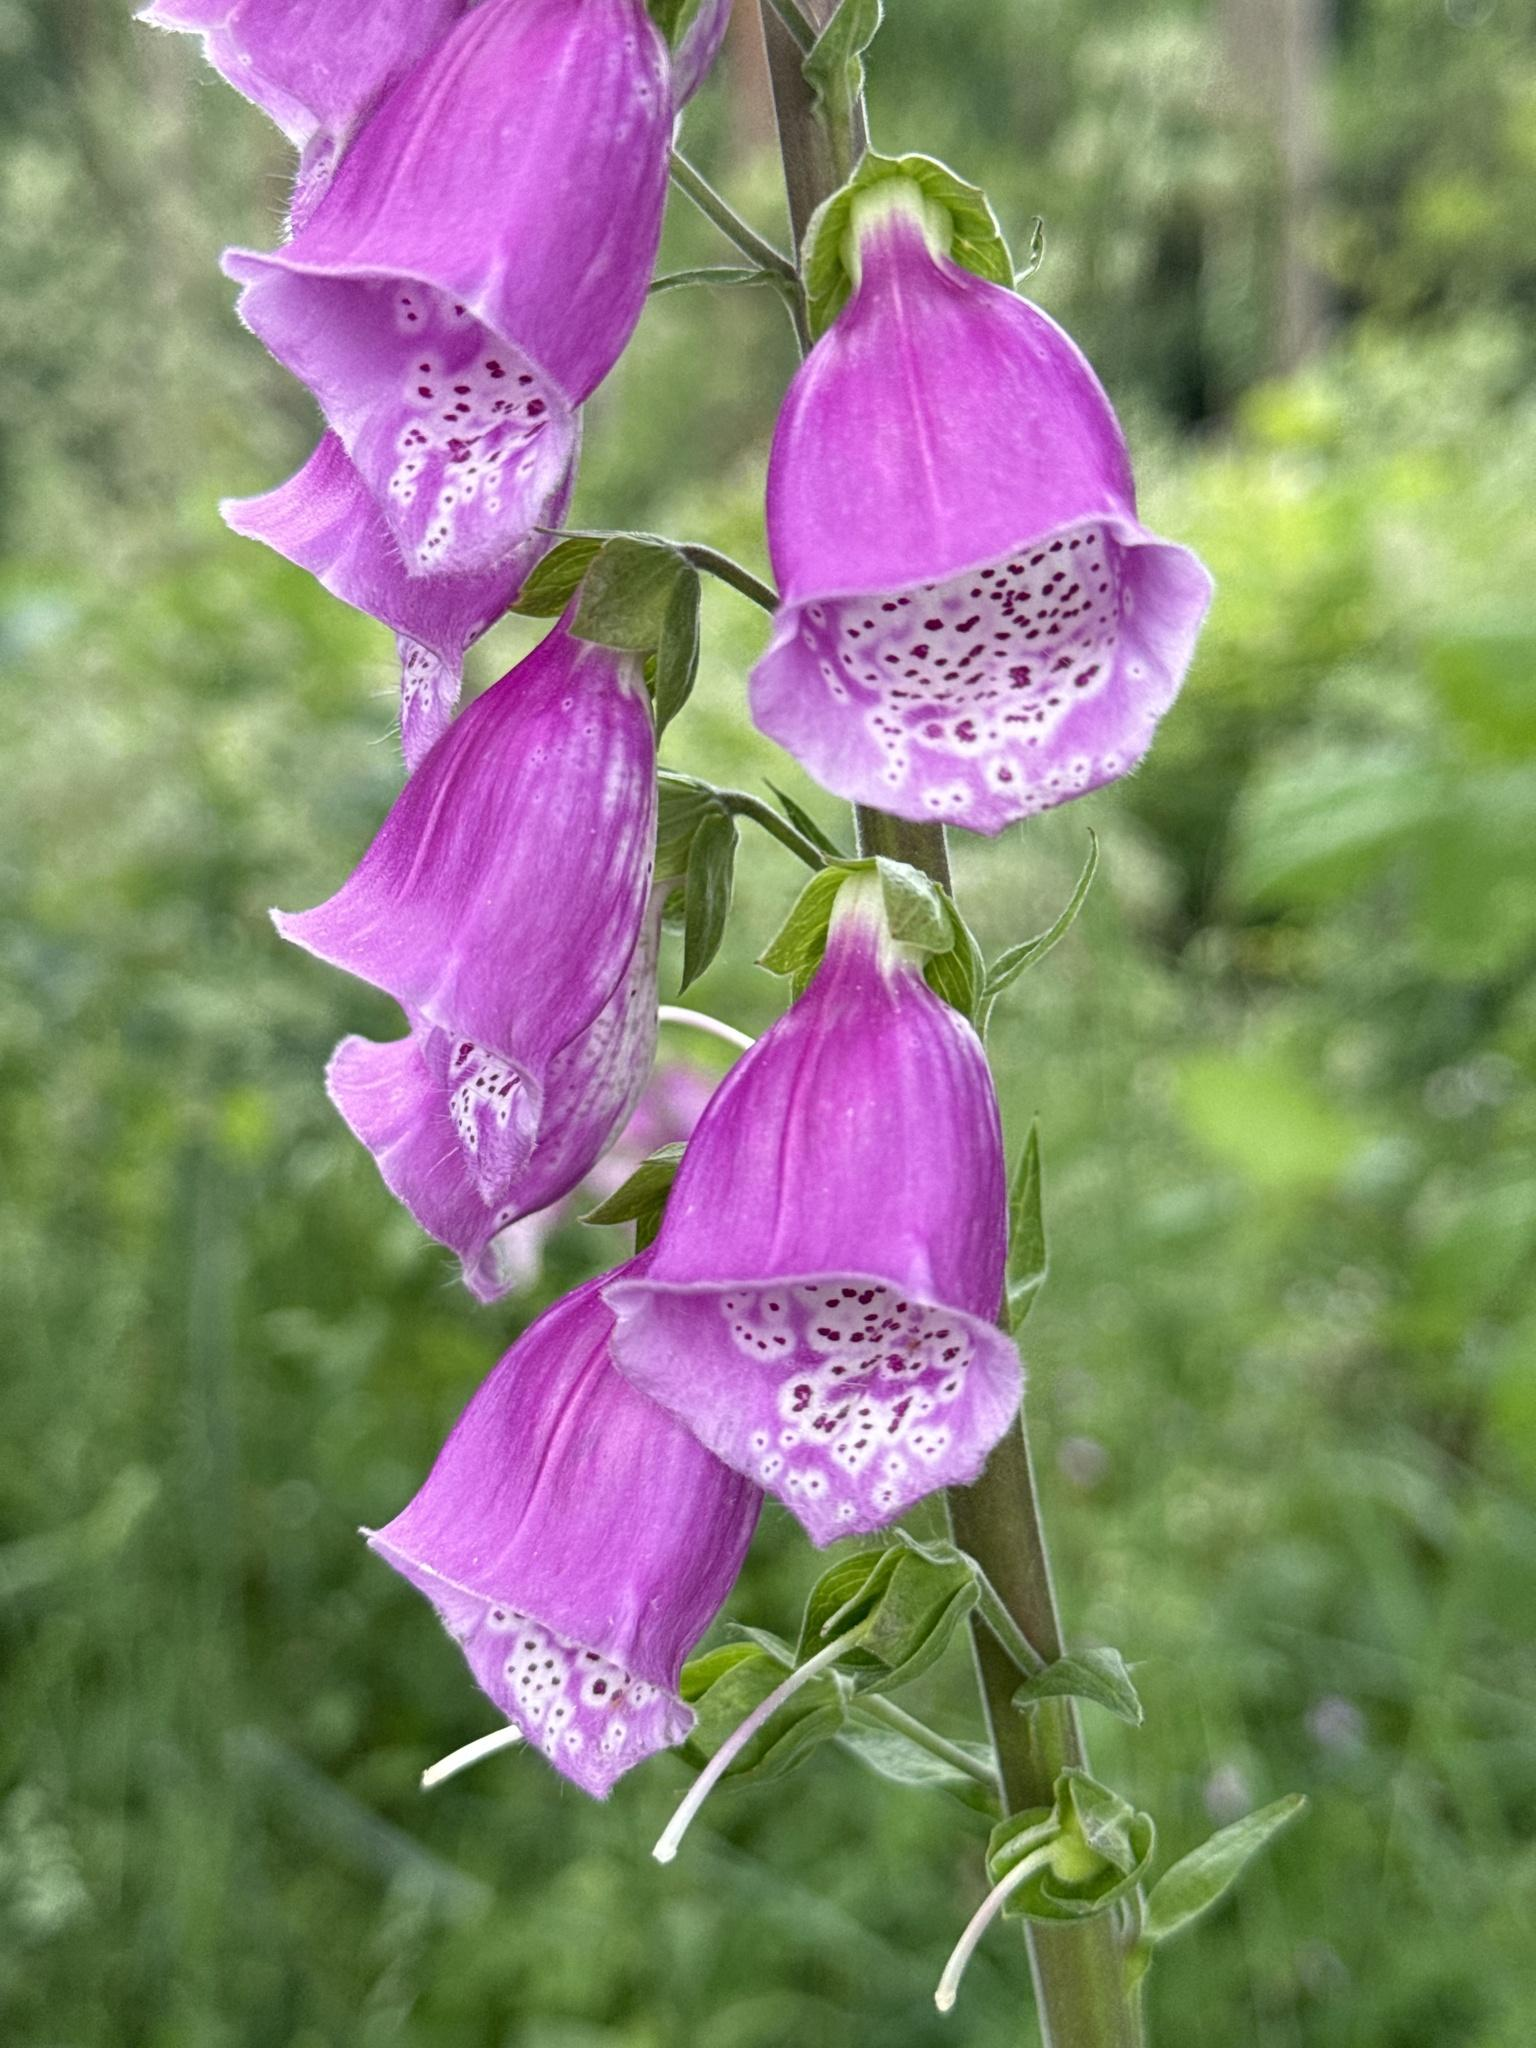Digitalis L: (148, 8, 1221, 1808)
